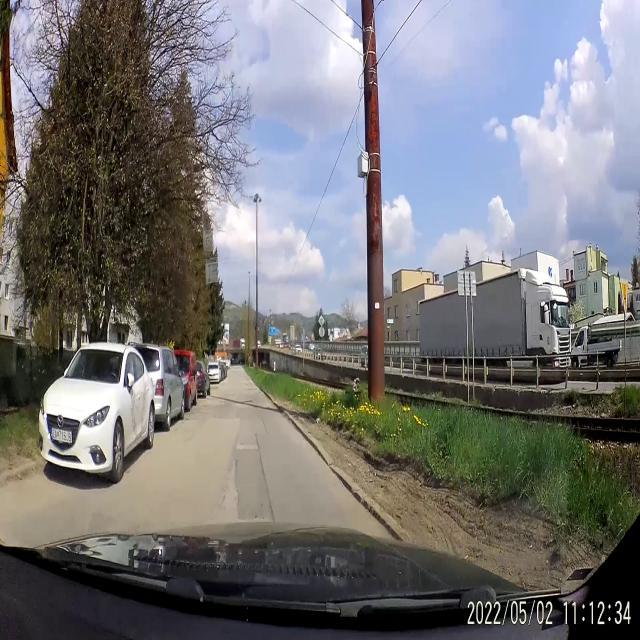Pothole: (236, 441, 259, 451)
